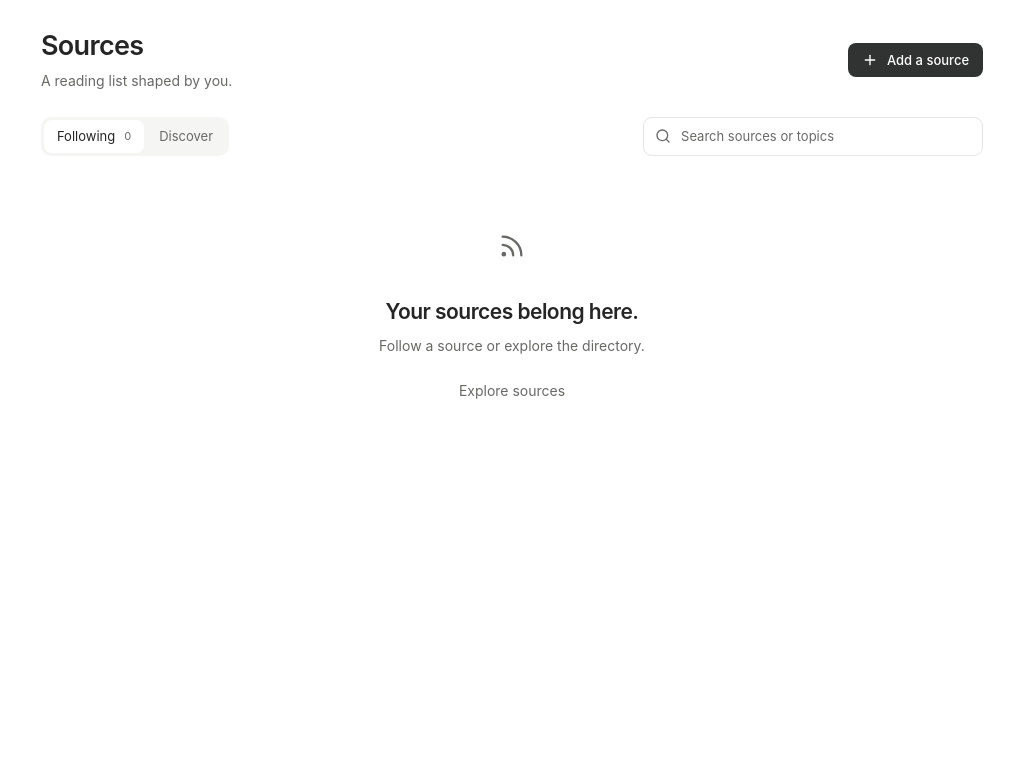
Test: retains an acknowledged follow when only refreshing the workspace fails
The width and height of the screenshot is (1024, 768).
Click the button "Discover" at (186, 136), box [146,120,226,153]
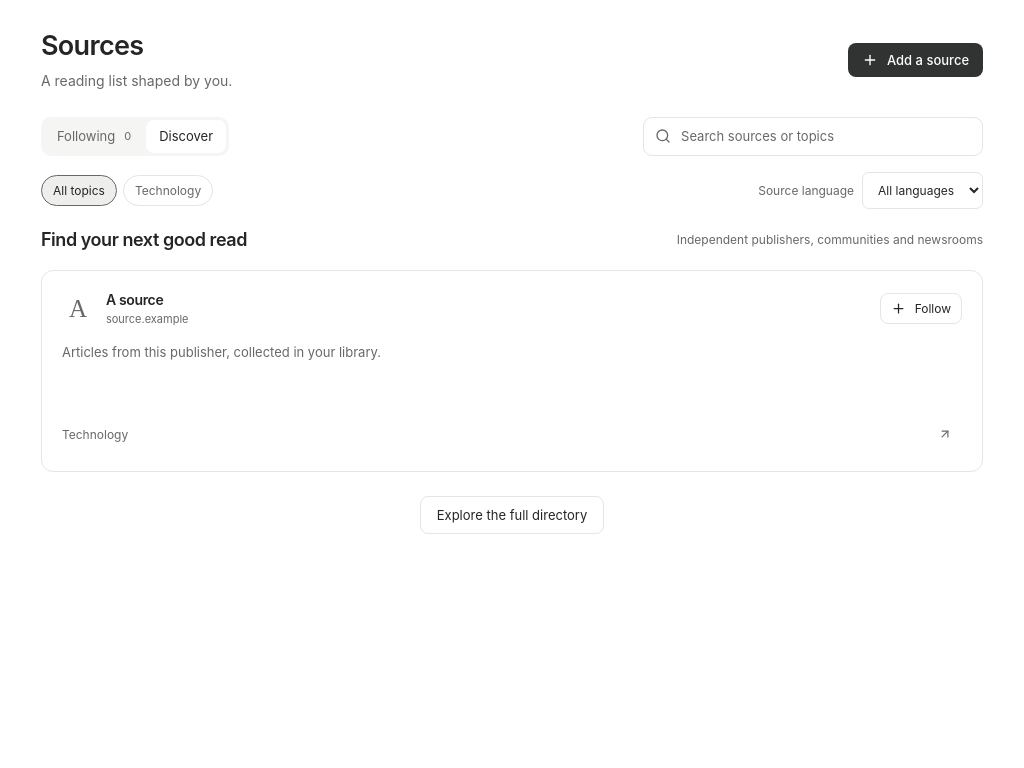
Click the button "Follow" at (921, 309), box [880,293,962,324]
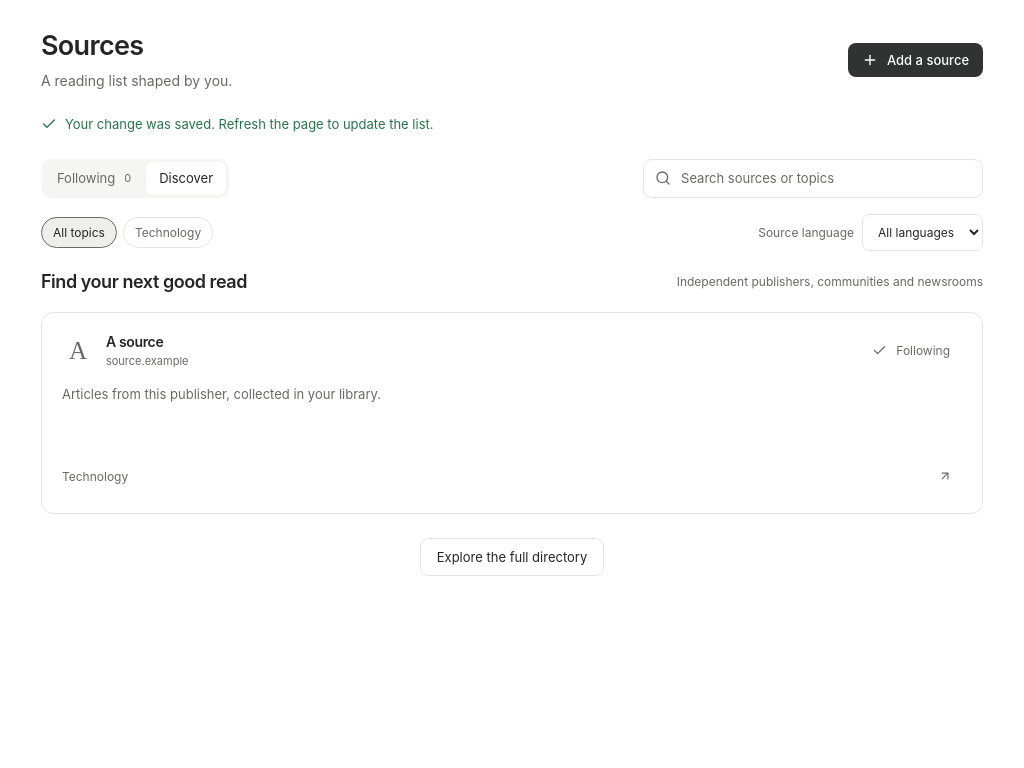
Check: the text "Your change was saved. Refresh the page to update the list." is shown, box [41,116,434,132]
Check: the button "Following" is shown, box [860,334,962,368]
